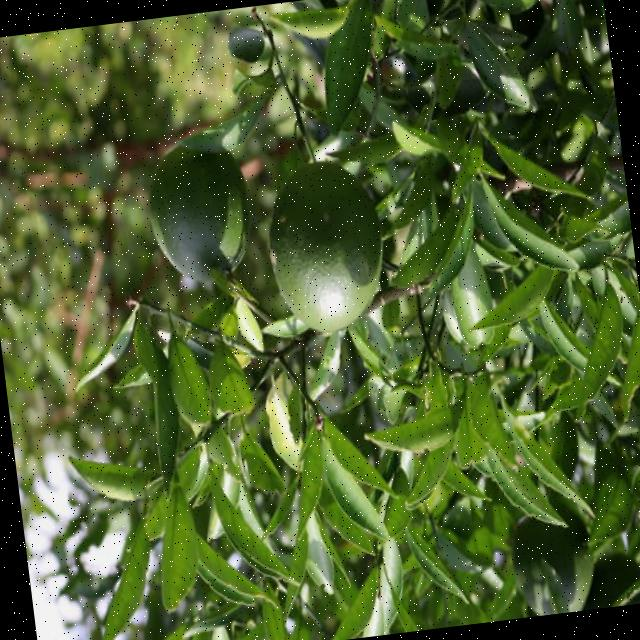Unripe: (259, 156, 392, 342), (142, 134, 257, 290)
